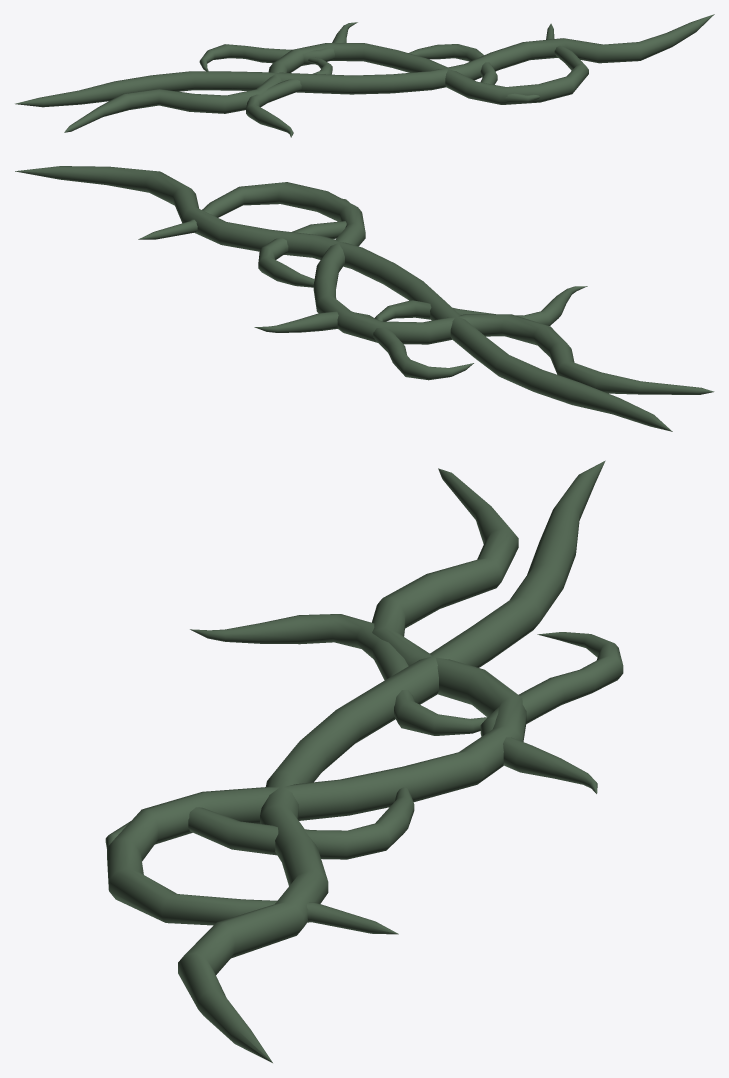
The model's file is ClimbPlant.fbx.
3 renders of one model, top to bottom at view 1: azimuth 30°, elevation 25°; view 2: azimuth 150°, elevation 25°; view 3: azimuth 270°, elevation 25°, orthographic. The views are drawn at different scales.
Parts seen in each view (by area): view 1: Enredadera; view 2: Enredadera; view 3: Enredadera.
Boxes of the visible parts, x1=… form: Enredadera: x1=15, y1=14, x2=714, y2=137; Enredadera: x1=15, y1=166, x2=714, y2=431; Enredadera: x1=105, y1=460, x2=623, y2=1062.
Size of the model in its own units: 0.4412 by 0.012 by 0.16.
